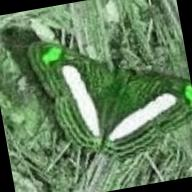butterfly: (0, 26, 192, 157)
